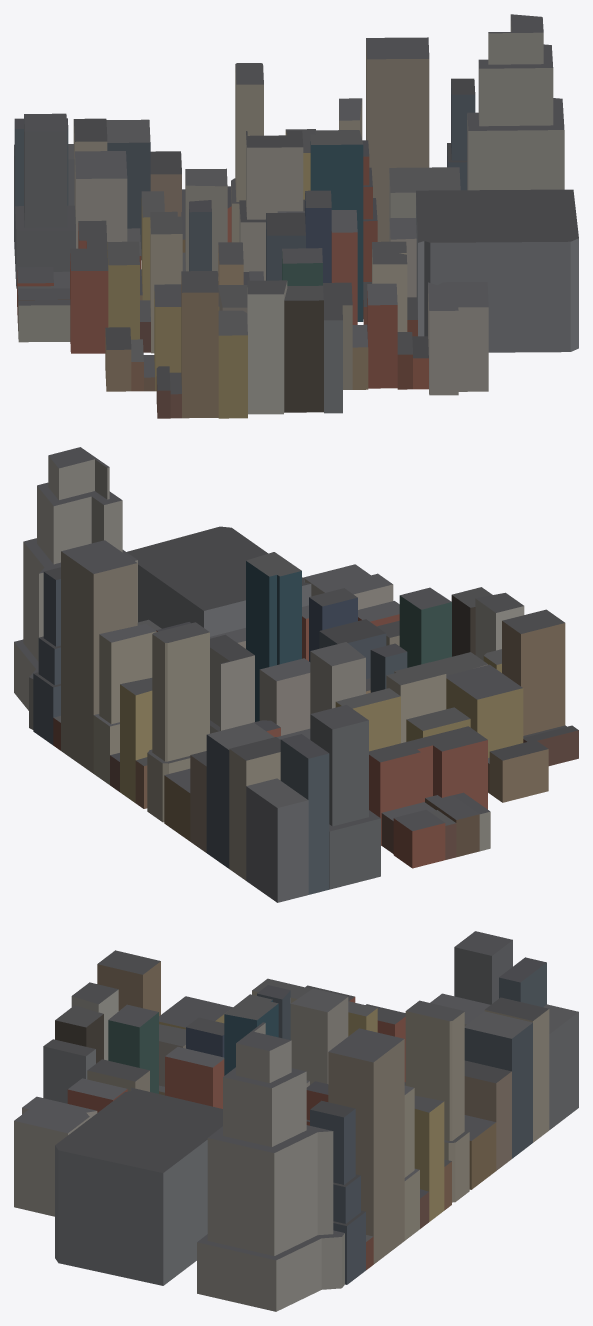
File: 0_-3.far.glb
3 views of the same model, one above another, from view 1: azimuth 30°, elevation 25°; view 2: azimuth 150°, elevation 25°; view 3: azimuth 270°, elevation 25° (orthographic). The views are drawn at different scales.
Parts seen in each view (by area): view 1: 0_-3_far; view 2: 0_-3_far; view 3: 0_-3_far.
Boxes of the visible parts, x1,y1,x2,y2 form: 0_-3_far: [14, 14, 578, 418]; 0_-3_far: [14, 447, 578, 902]; 0_-3_far: [14, 931, 578, 1311].
Size of the model in its own units: 298 by 133 by 278.
